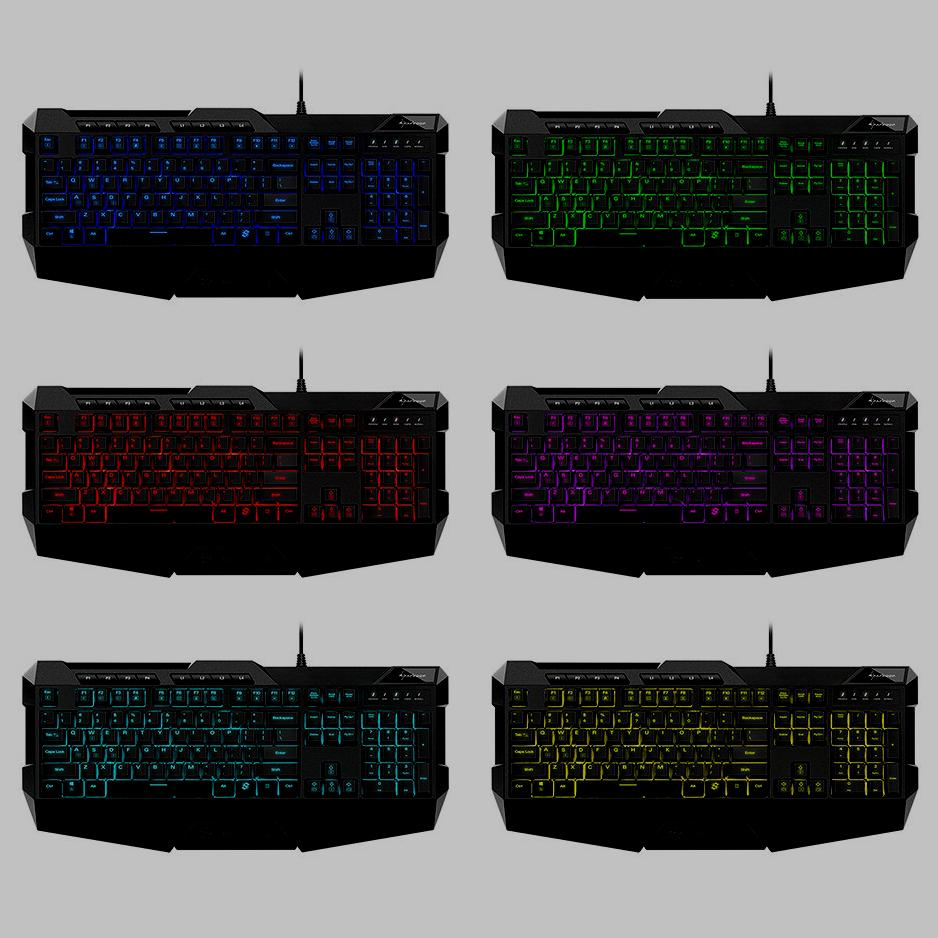keyboard: (29, 128, 440, 253), (502, 409, 908, 528), (503, 132, 908, 251), (33, 684, 438, 802), (34, 409, 438, 527), (504, 685, 906, 800)
